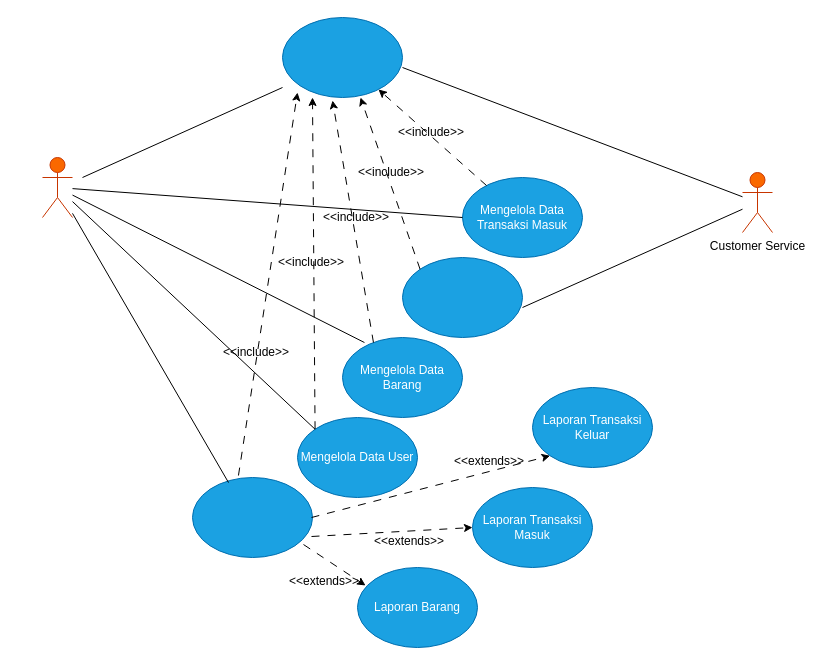
Some shapes in this 822 by 665 pixel diagram are drawn without their labels. The shapes that lost their labels are listed below. From the top down, each one's centre as x and y in pixels, then its label:
the point at 342,57: Login
the point at 57,187: Admin Gudang
the point at 462,297: Mengelola Data Transaksi Keluar
the point at 252,517: Mencetak Laporan
